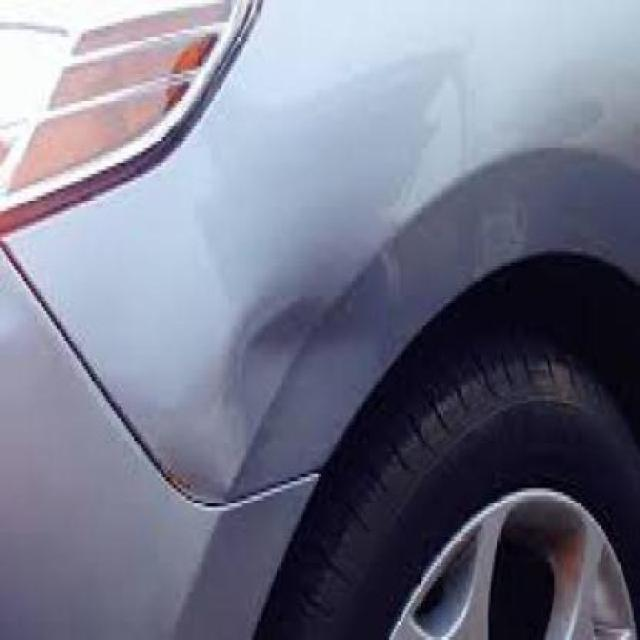fender-dent: (200, 266, 404, 474)
